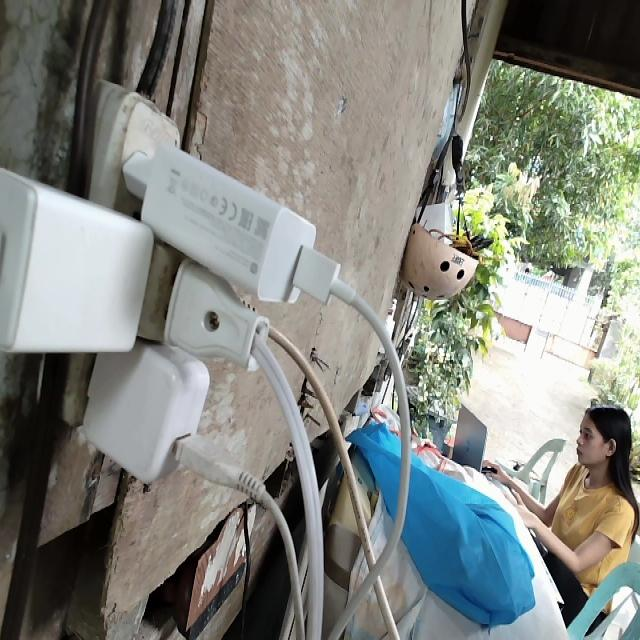-: (1, 76, 320, 485)
